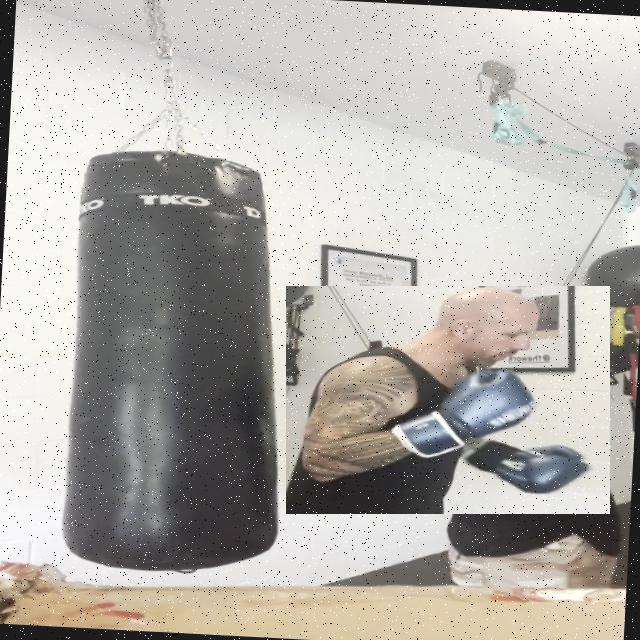punch: (286, 286, 610, 514)
